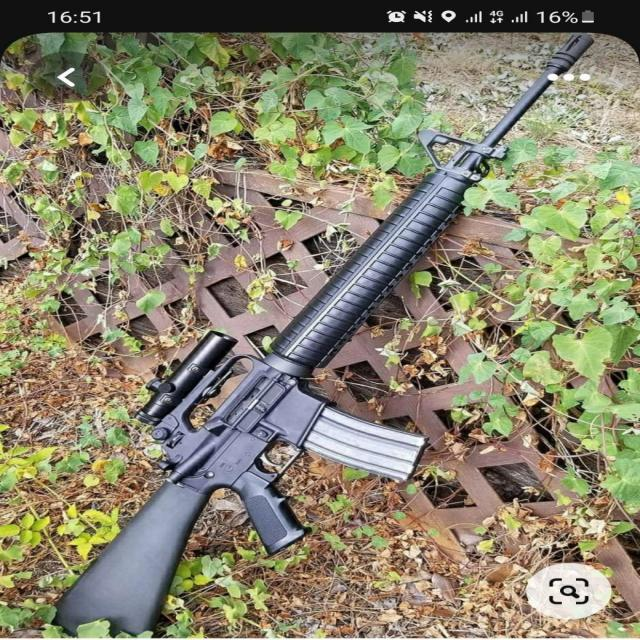m16: (246, 54, 564, 483)
